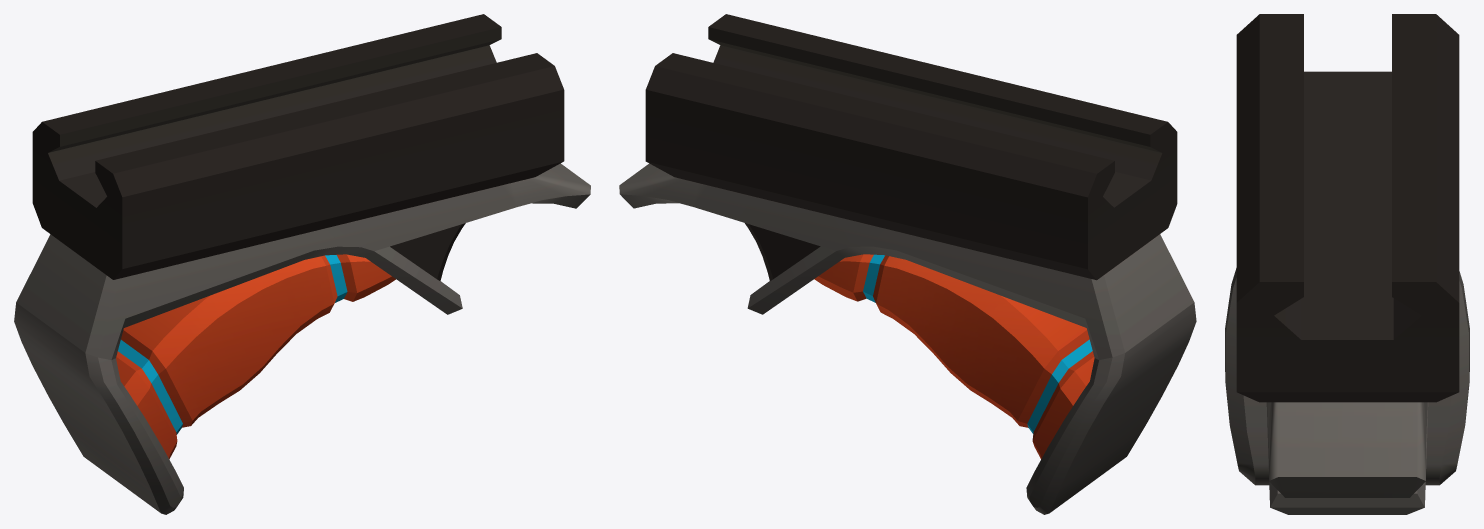
File: Foregrip_Horisontal.fbx
3 renders of one model, left to right at view 1: azimuth 30°, elevation 25°; view 2: azimuth 150°, elevation 25°; view 3: azimuth 270°, elevation 25°, orthographic. The views are drawn at different scales.
Parts seen in each view (by area): view 1: Foregrip_Horisontal; view 2: Foregrip_Horisontal; view 3: Foregrip_Horisontal.
Boxes of the visible parts, bbox=[...] form: Foregrip_Horisontal: bbox=[14, 14, 590, 514]; Foregrip_Horisontal: bbox=[619, 14, 1196, 514]; Foregrip_Horisontal: bbox=[1225, 14, 1469, 514].
Bounding box in the file's own units: 12.93 × 8.48 × 4.31.
